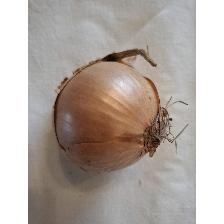Zwiebel: (51, 42, 178, 176)
